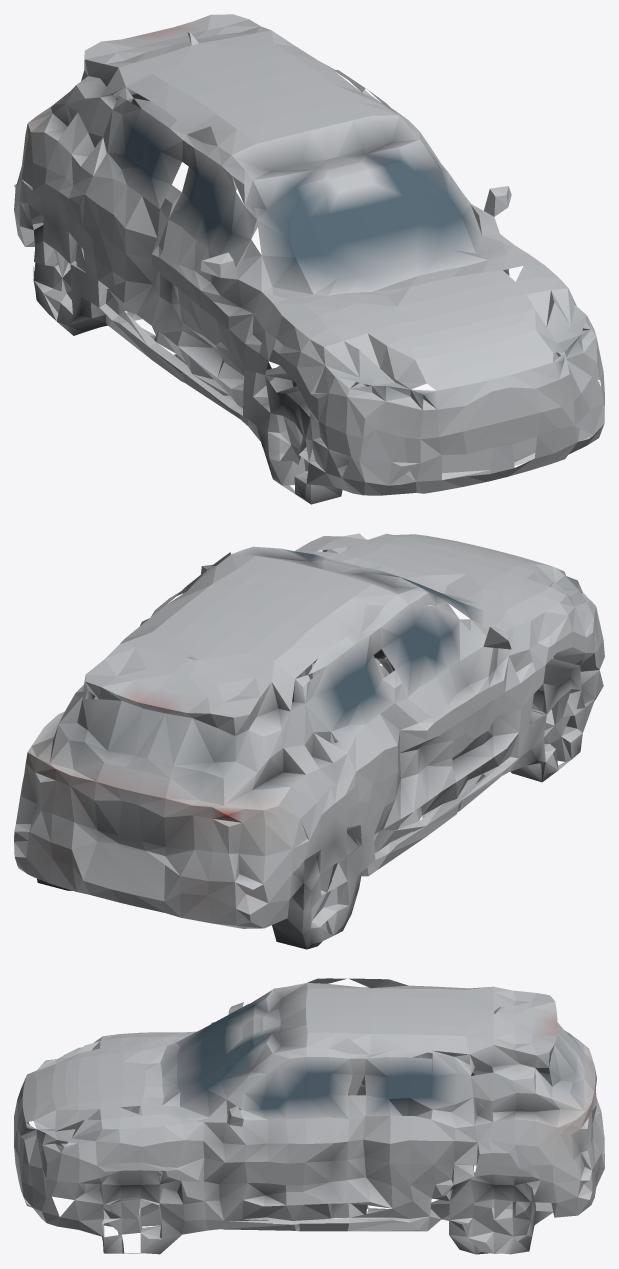
File: byd-lite.glb
3 renders of one model, top to bottom at view 1: azimuth 30°, elevation 25°; view 2: azimuth 150°, elevation 25°; view 3: azimuth 270°, elevation 25°, orthographic. The views are drawn at different scales.
Visible parts, largest first — view 1: world; view 2: world; view 3: world.
Part boxes in pixels (<box>): world: <box>14,14,604,504</box>; world: <box>14,533,604,949</box>; world: <box>14,978,604,1254</box>.
Size of the model in its own units: 2.07 by 1.63 by 4.37.
